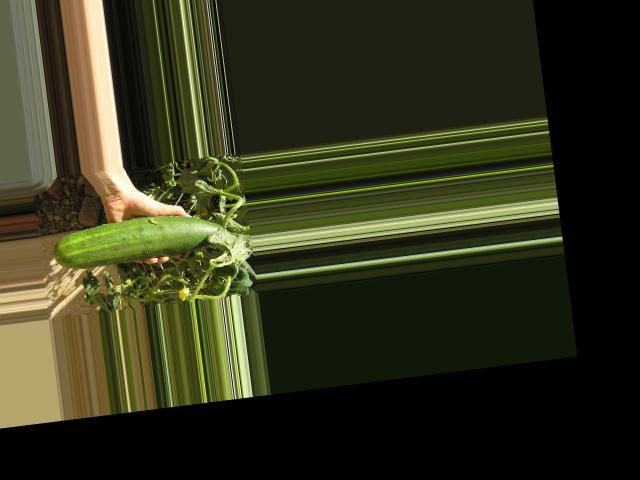cucumber: (49, 207, 228, 272)
